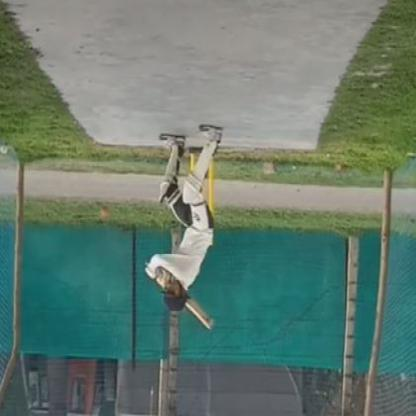ball: (99, 202, 113, 222)
